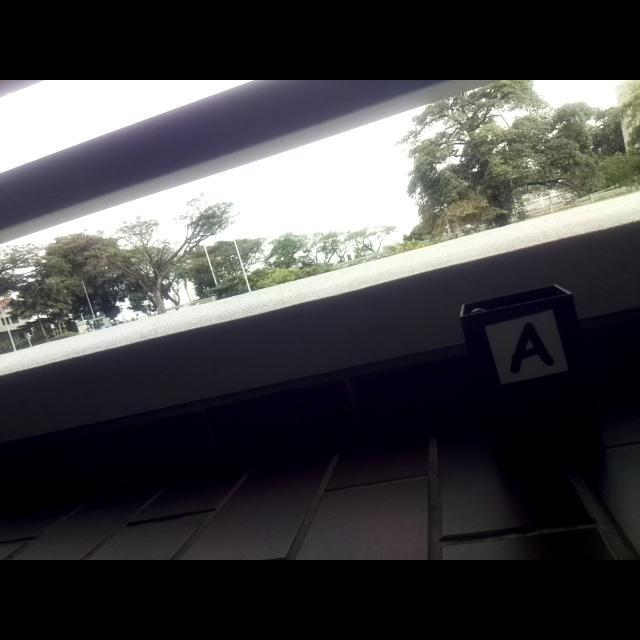A: (510, 321, 555, 374)
